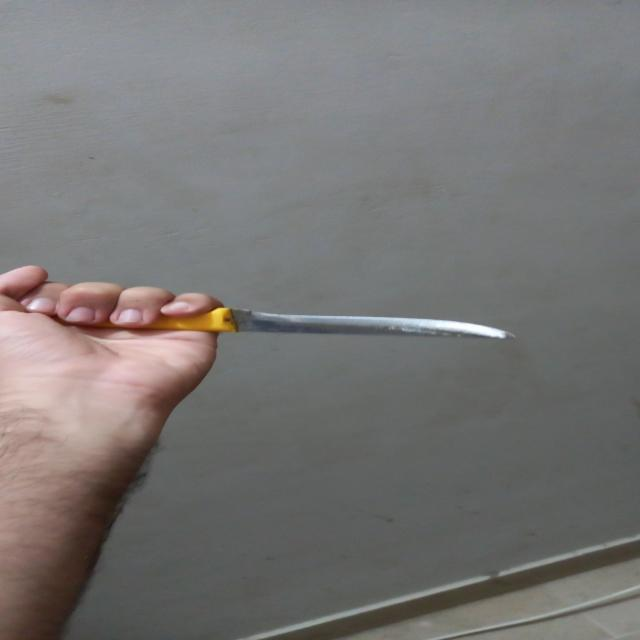Knife: (6, 252, 528, 372)
